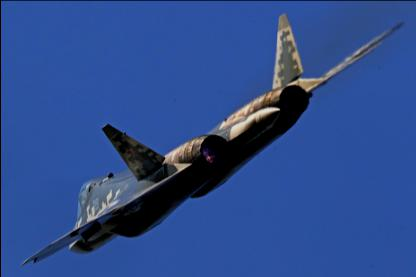SR71: (18, 10, 404, 266)
